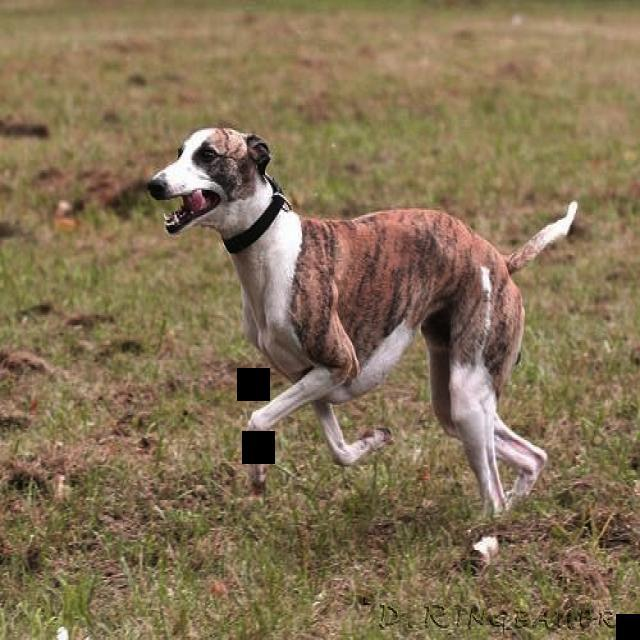adult_dog: (146, 122, 581, 556)
